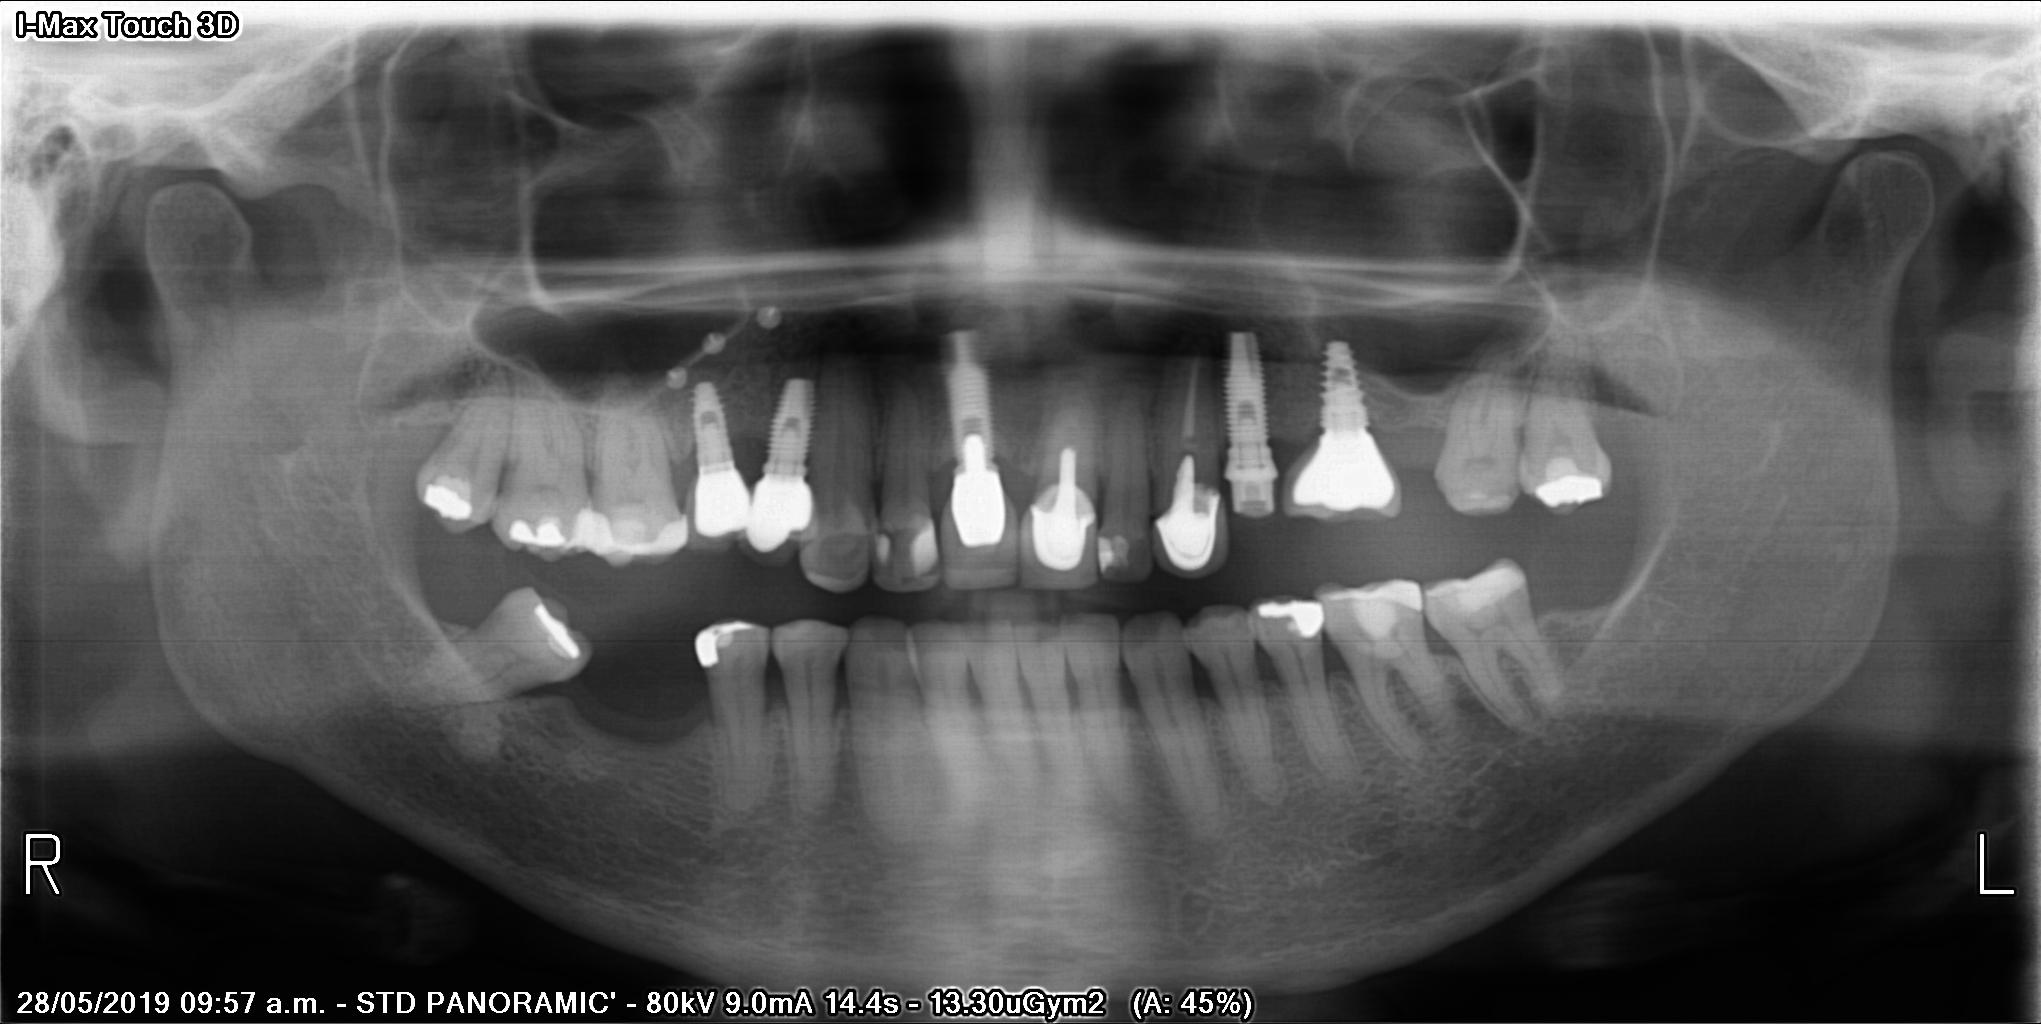Çürük: (948, 462, 1015, 549), (747, 479, 819, 550), (1026, 485, 1088, 567), (593, 517, 696, 562), (1157, 504, 1225, 566), (695, 470, 748, 538), (423, 469, 481, 524), (1532, 474, 1613, 512), (1255, 598, 1323, 643), (529, 605, 578, 662), (513, 512, 592, 547), (692, 618, 746, 666), (1316, 585, 1422, 609), (914, 524, 939, 566), (1096, 532, 1118, 571), (876, 541, 891, 566)
Çürük Bölgesi: (1122, 525, 1150, 573), (881, 524, 905, 566)
